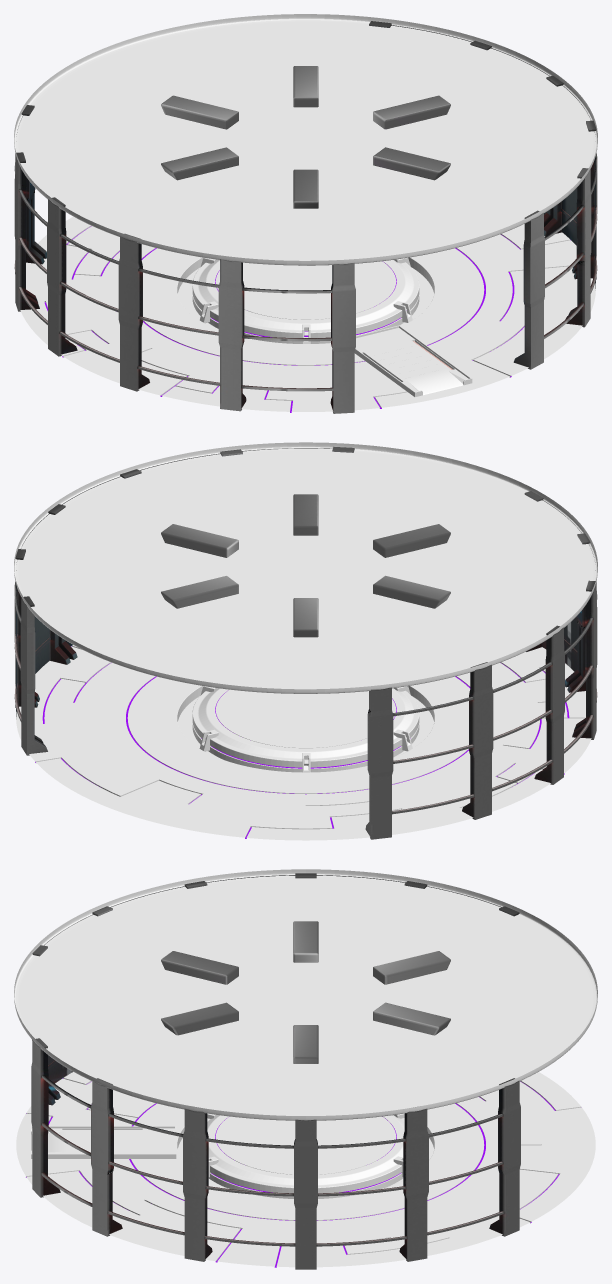
Rendered from room.gltf.
3 renders of one model, top to bottom at view 1: azimuth 30°, elevation 25°; view 2: azimuth 150°, elevation 25°; view 3: azimuth 270°, elevation 25°, orthographic.
Visible parts, largest first — view 1: Black_Ground, Black_Wall, Black_LightUpper, Emissive_Cyan; view 2: Black_Ground, Black_Wall, Black_LightUpper, Emissive_Cyan; view 3: Black_Ground, Black_Wall, Black_LightUpper, Emissive_Cyan.
Part boxes in pixels (bbox=[...]): Black_Ground: bbox=[14, 14, 597, 411]; Black_Wall: bbox=[14, 21, 597, 413]; Black_LightUpper: bbox=[161, 66, 450, 208]; Emissive_Cyan: bbox=[44, 226, 570, 412]; Black_Ground: bbox=[14, 442, 597, 840]; Black_Wall: bbox=[14, 446, 597, 839]; Black_LightUpper: bbox=[161, 494, 450, 637]; Emissive_Cyan: bbox=[35, 646, 569, 838]; Black_Ground: bbox=[14, 869, 597, 1267]; Black_Wall: bbox=[31, 873, 520, 1269]; Black_LightUpper: bbox=[161, 921, 450, 1063]; Emissive_Cyan: bbox=[26, 1078, 559, 1267].
Size of the model in its own units: 39.76 by 12.38 by 39.74.
6 materials, 3 textured.
